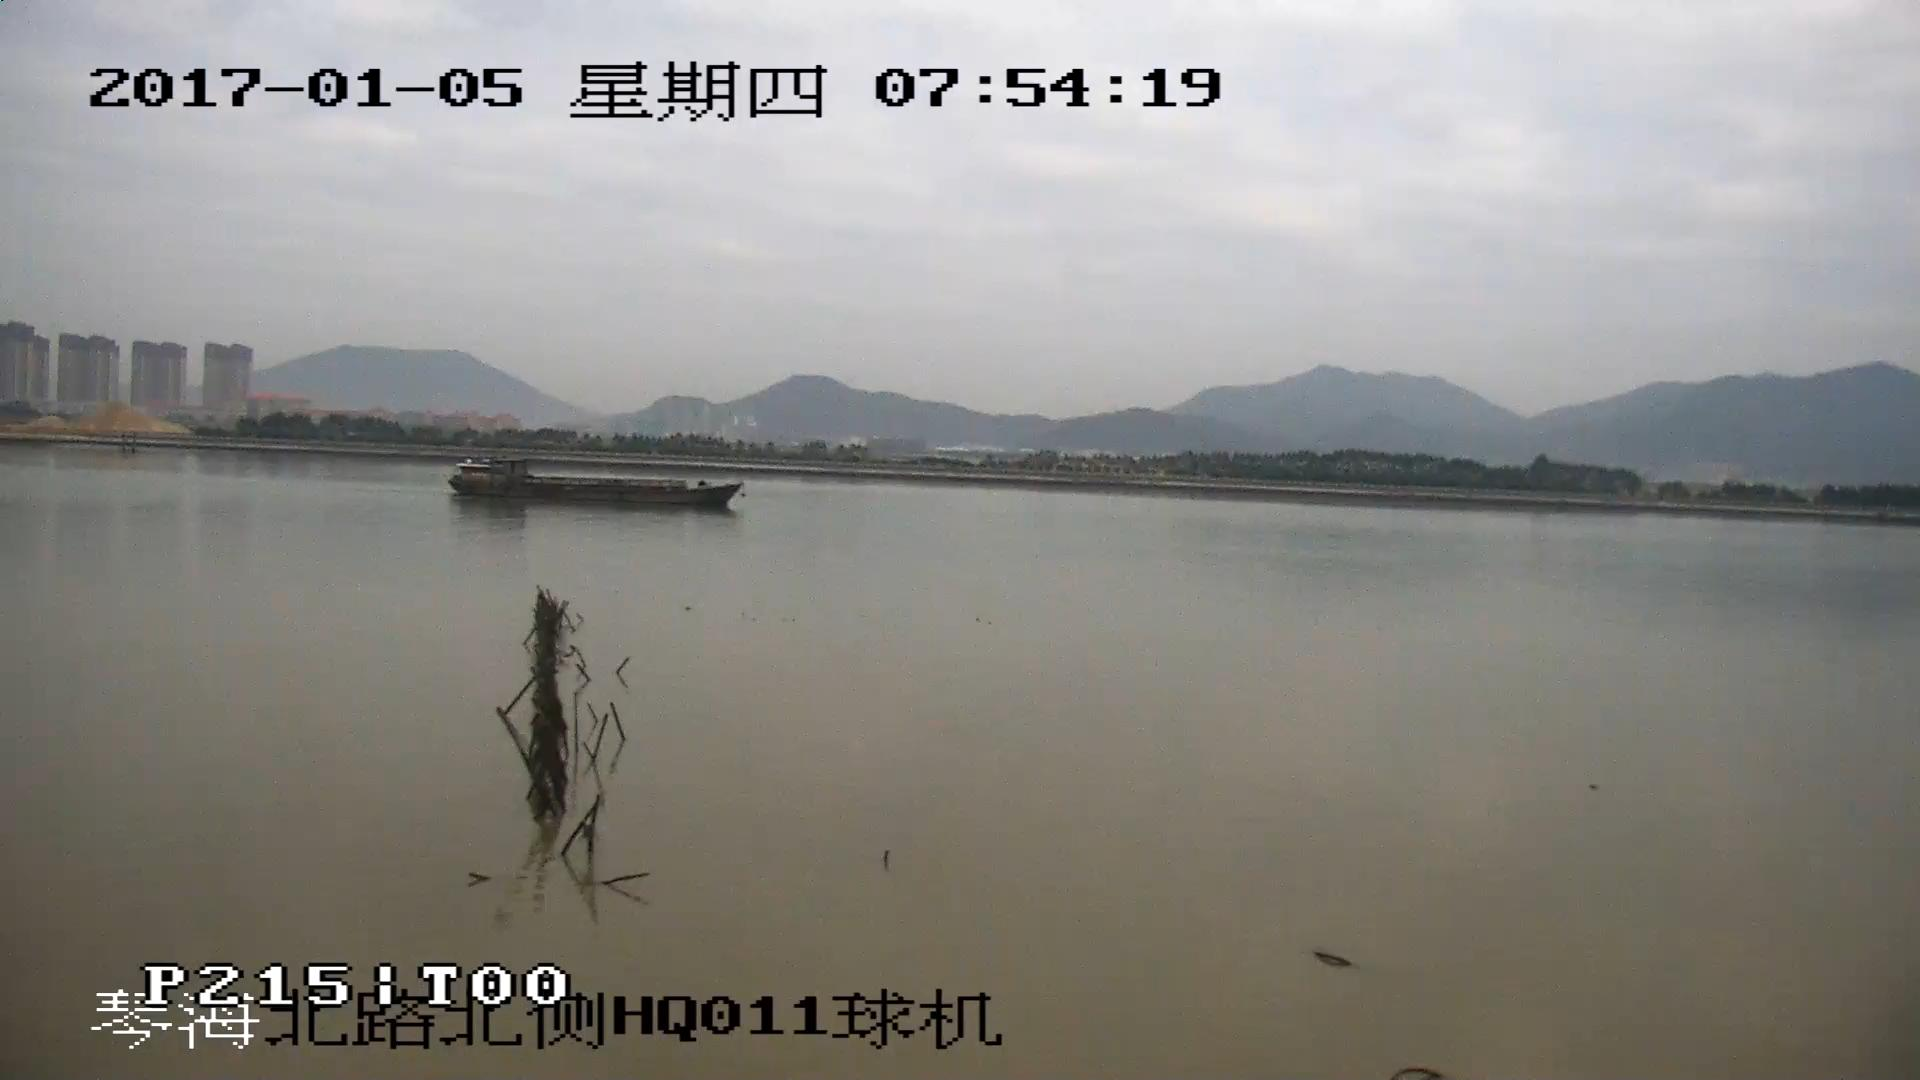bulk cargo carrier: (448, 460, 741, 510)
